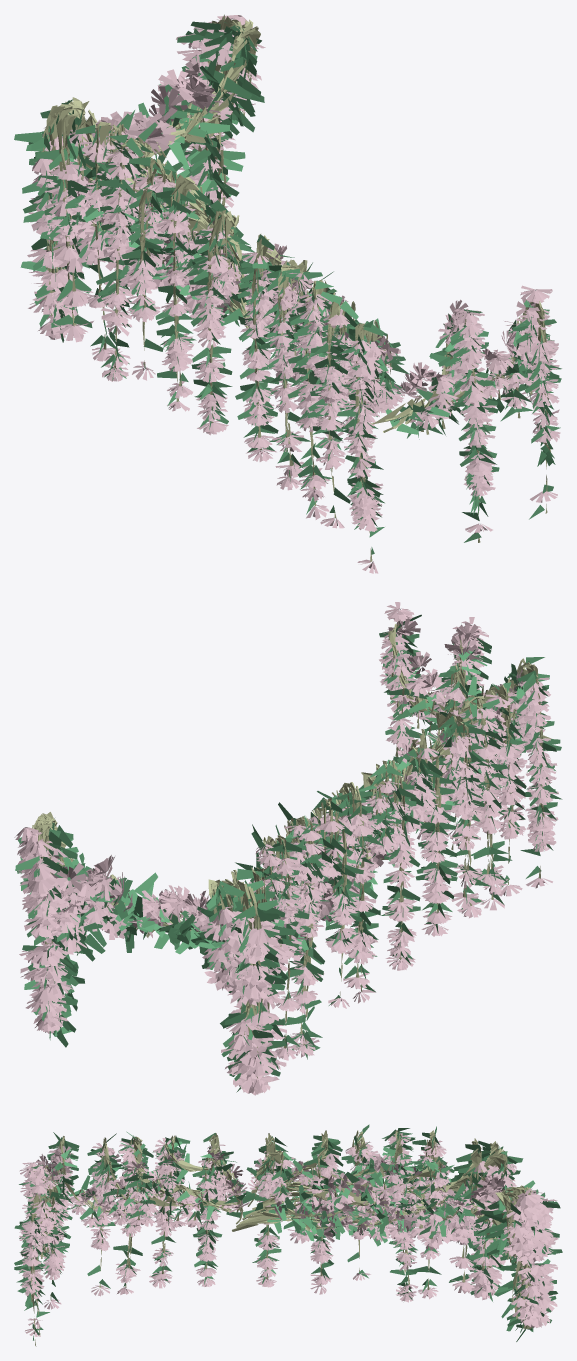
The model's file is BalconyFenceIvy.fbx.
3 renders of one model, top to bottom at view 1: azimuth 30°, elevation 25°; view 2: azimuth 150°, elevation 25°; view 3: azimuth 270°, elevation 25°, orthographic. The views are drawn at different scales.
Parts seen in each view (by area): view 1: greenBudVine10Flower, greenBudVine5Leaf1, greenBudVine10Main; view 2: greenBudVine10Flower, greenBudVine5Leaf1, greenBudVine10Main; view 3: greenBudVine10Flower, greenBudVine5Leaf1, greenBudVine10Main.
Boxes of the visible parts, x1=… form: greenBudVine10Flower: x1=27, y1=15, x2=560, y2=573; greenBudVine5Leaf1: x1=14, y1=21, x2=561, y2=554; greenBudVine10Main: x1=41, y1=14, x2=550, y2=561; greenBudVine10Flower: x1=14, y1=602, x2=558, y2=1095; greenBudVine5Leaf1: x1=15, y1=614, x2=562, y2=1092; greenBudVine10Main: x1=32, y1=622, x2=551, y2=1078; greenBudVine10Flower: x1=19, y1=1133, x2=558, y2=1336; greenBudVine5Leaf1: x1=14, y1=1124, x2=562, y2=1341; greenBudVine10Main: x1=30, y1=1130, x2=535, y2=1346.
Bounding box in the file's own units: 7.94 × 7.77 × 20.51.
